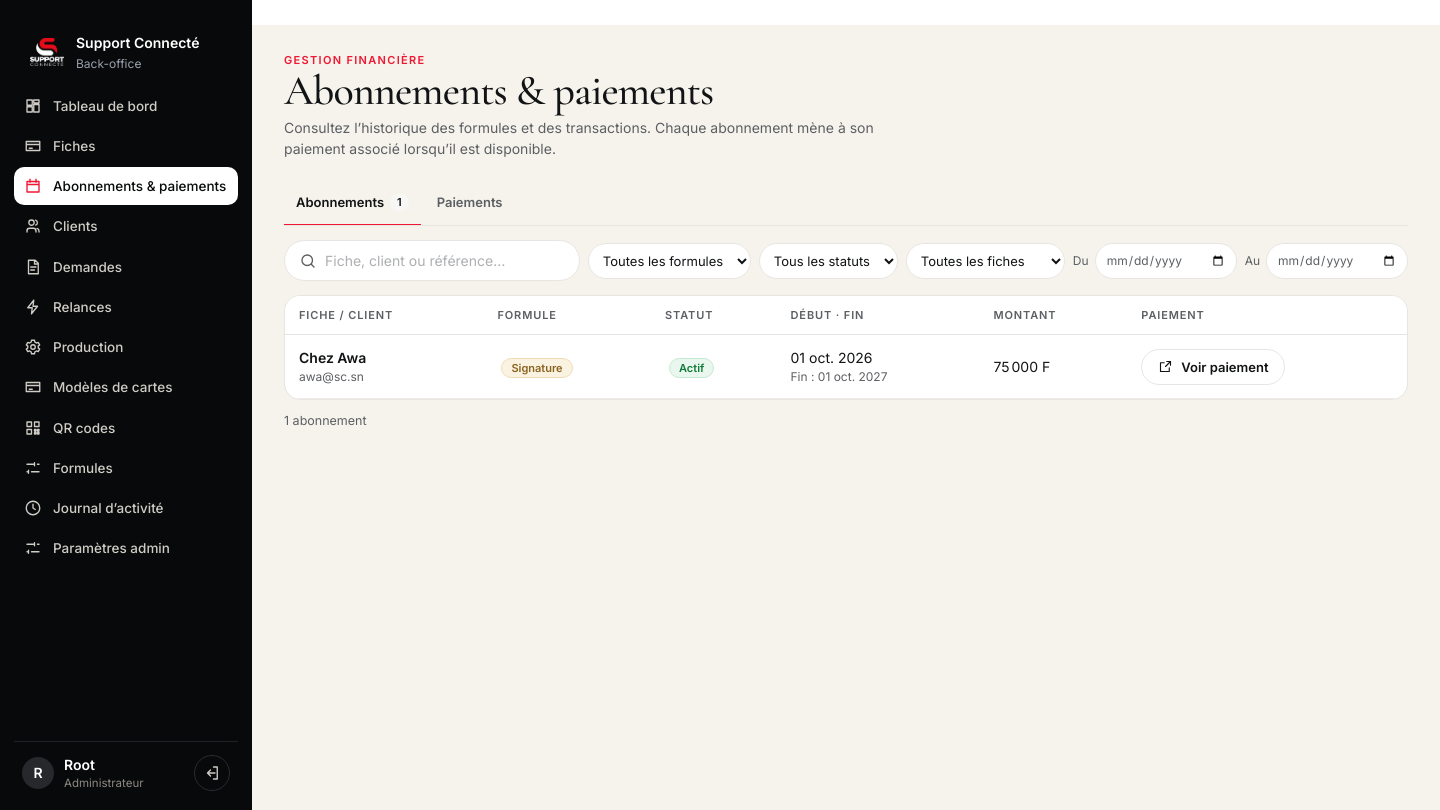
Test: pages du back-office › ouvre le paiement associé à un abonnement et filtre la liste
Click the button with class "adm-btn" at (1213, 367), box [1141,349,1286,385]
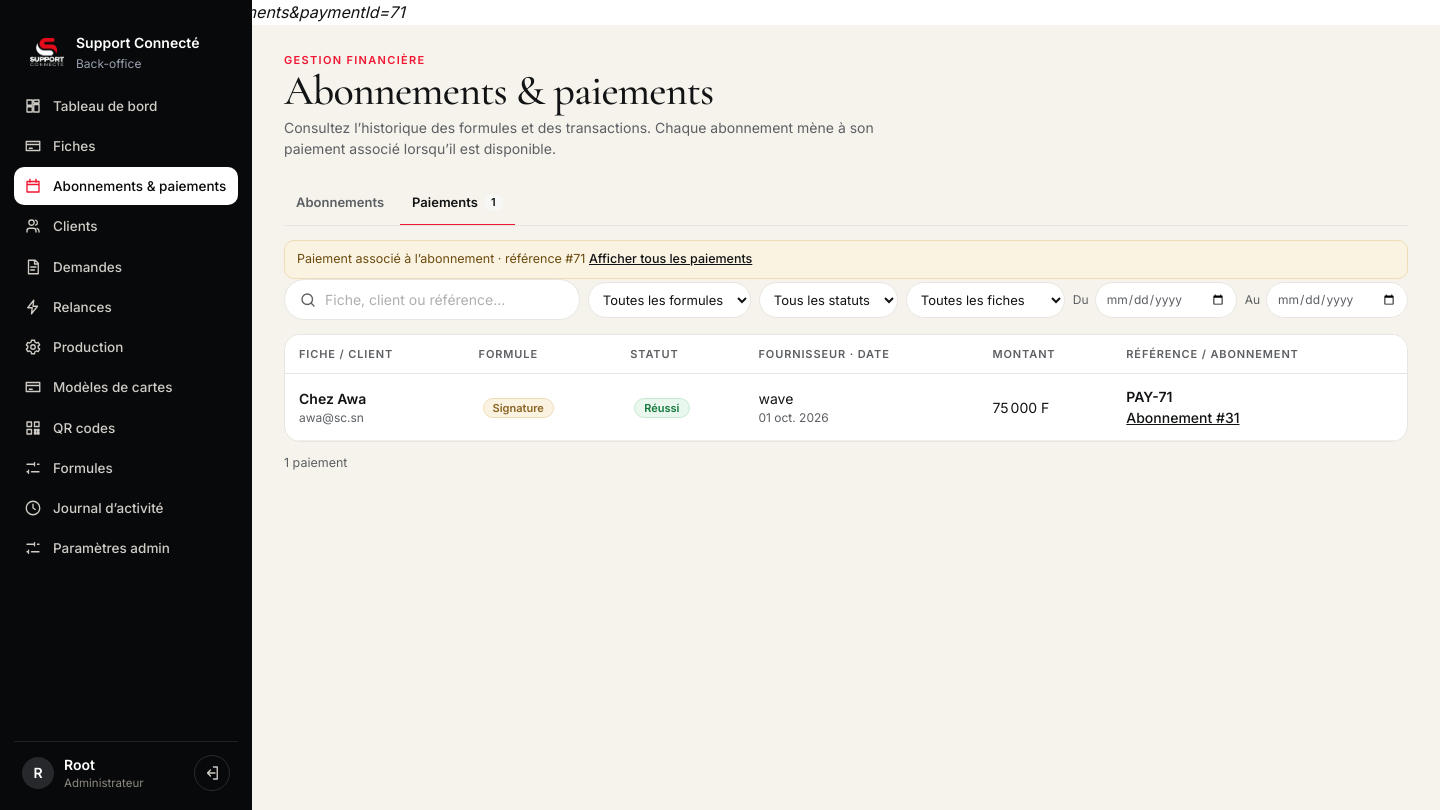
Check: the text with test id "where" reads "/admin/abonnements?view=payments&paymentId=71", box [0,2,405,22]
Check: the text "PAY-71" is shown, box [1126,388,1172,405]
Select "Réussi" in the dropdown named "Filtrer par statut" at (828, 300), box [759,282,898,318]
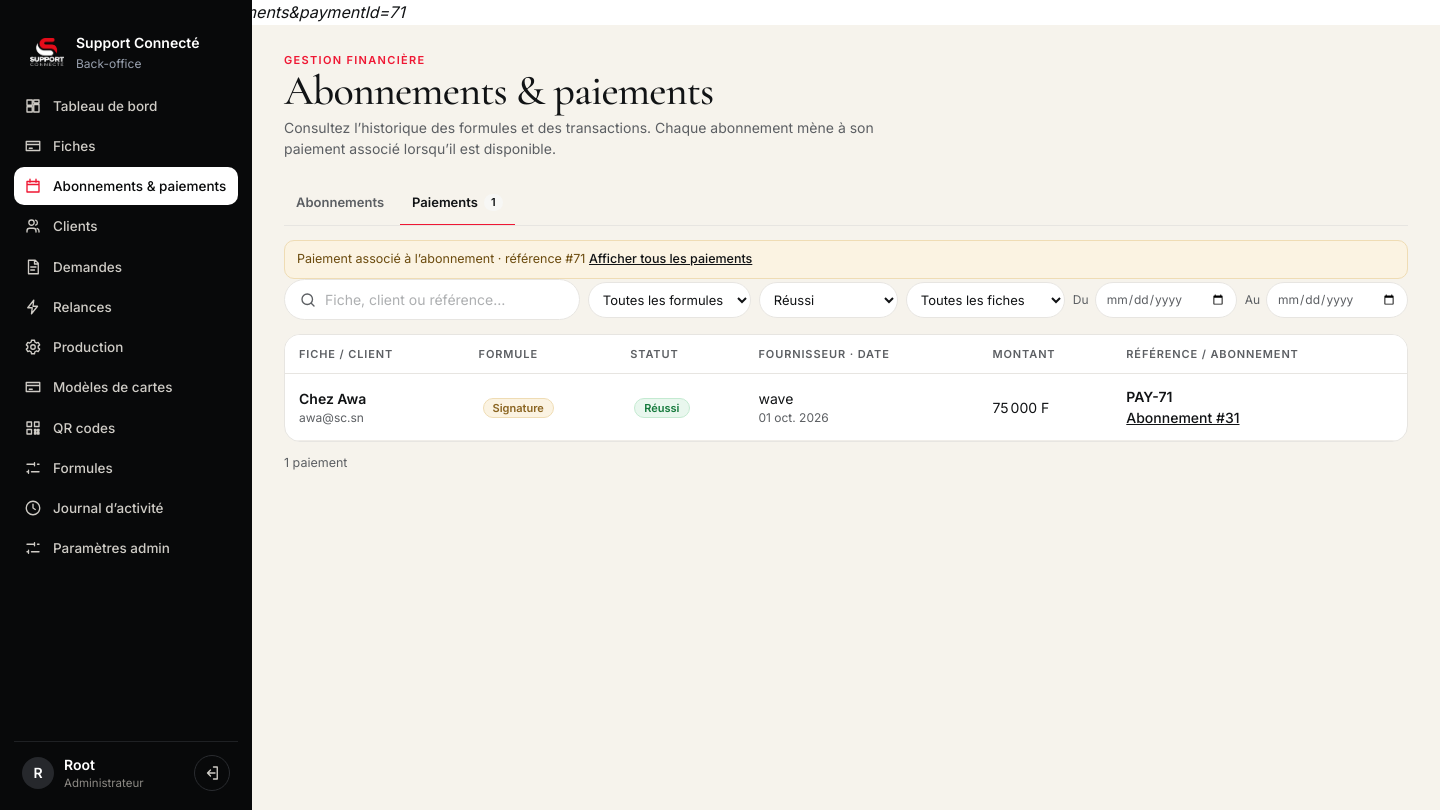
Click the button "Abonnement #31" at (1183, 418), box [1126,407,1240,428]
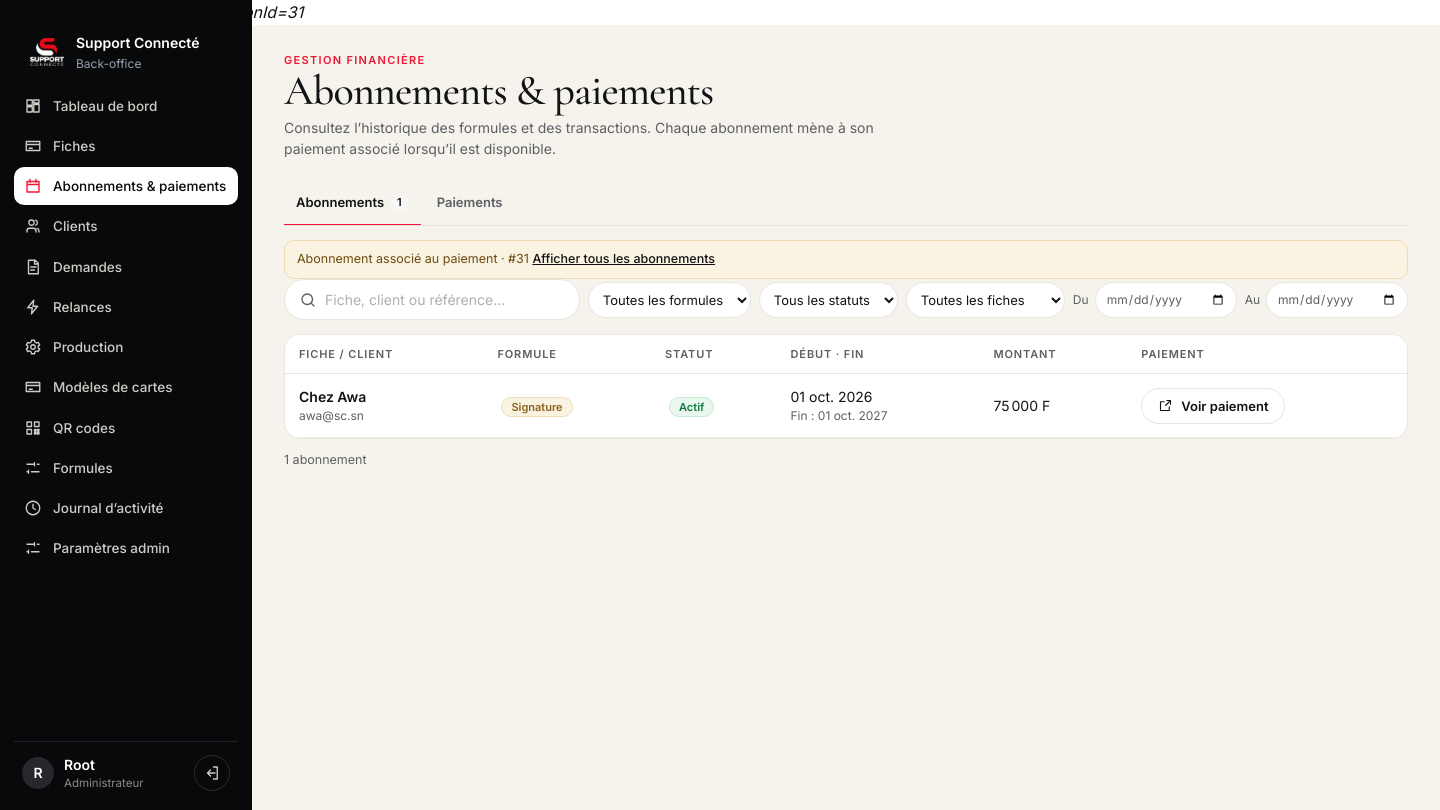
Check: the text with test id "where" reads "/admin/abonnements?subscriptionId=31", box [0,2,303,22]
